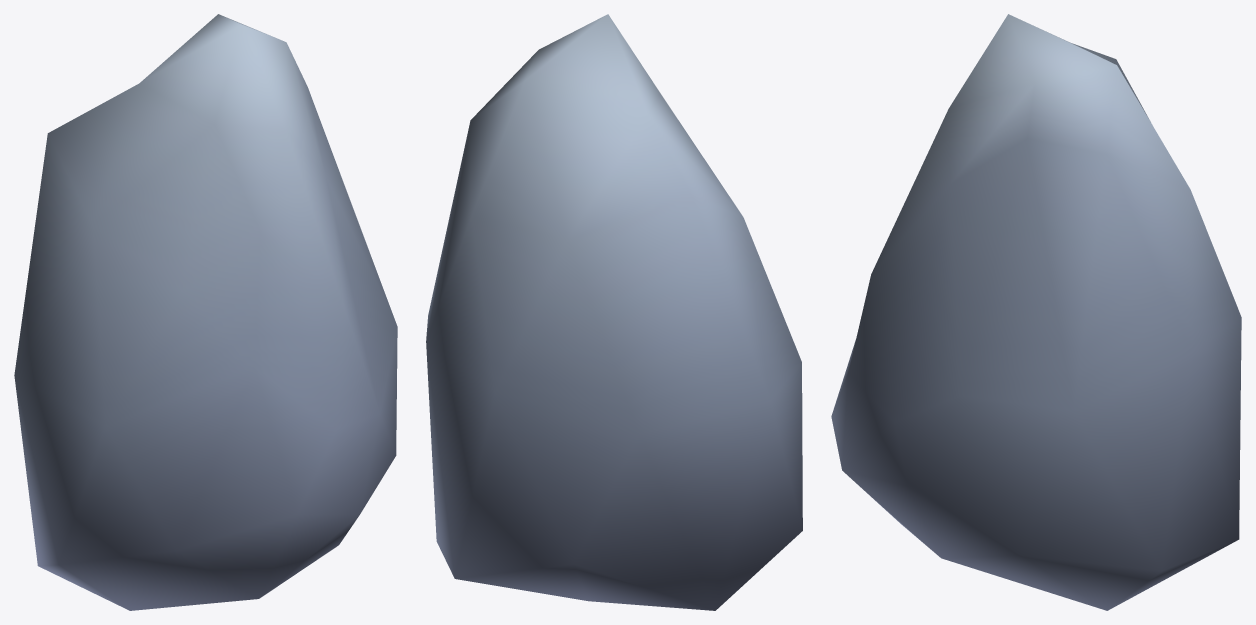
File: rock-5.fbx
3 renders of one model, left to right at view 1: azimuth 30°, elevation 25°; view 2: azimuth 150°, elevation 25°; view 3: azimuth 270°, elevation 25°, orthographic. The views are drawn at different scales.
Parts seen in each view (by area): view 1: rock-5; view 2: rock-5; view 3: rock-5.
Boxes of the visible parts, x1,y1,x2,y2 form: rock-5: (14,14,397,610); rock-5: (426,14,802,610); rock-5: (831,14,1241,610).
Bounding box in the file's own units: 39.8 × 61.42 × 40.49.
